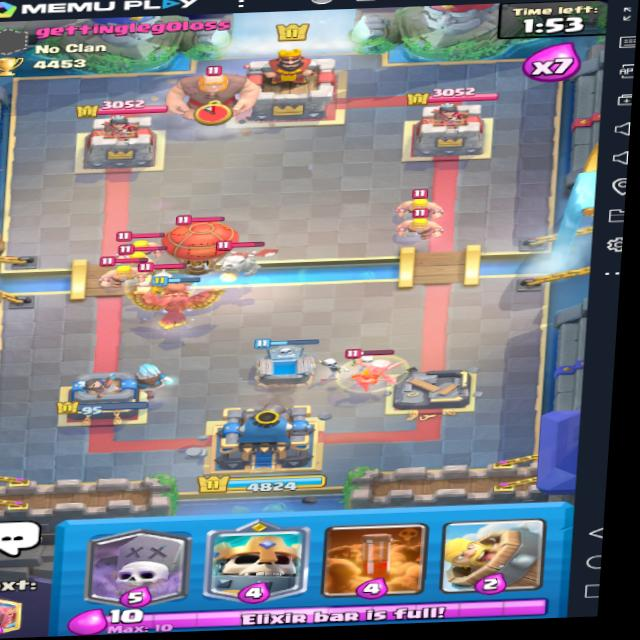balloon: (159, 213, 236, 277)
barbarian: (395, 208, 446, 242), (111, 243, 171, 271), (101, 256, 152, 287), (392, 189, 444, 215), (120, 228, 171, 254)
battle-healer: (333, 342, 416, 394), (129, 266, 190, 307)
giant: (160, 58, 263, 123)
skeleton-dragon: (210, 240, 277, 276)
